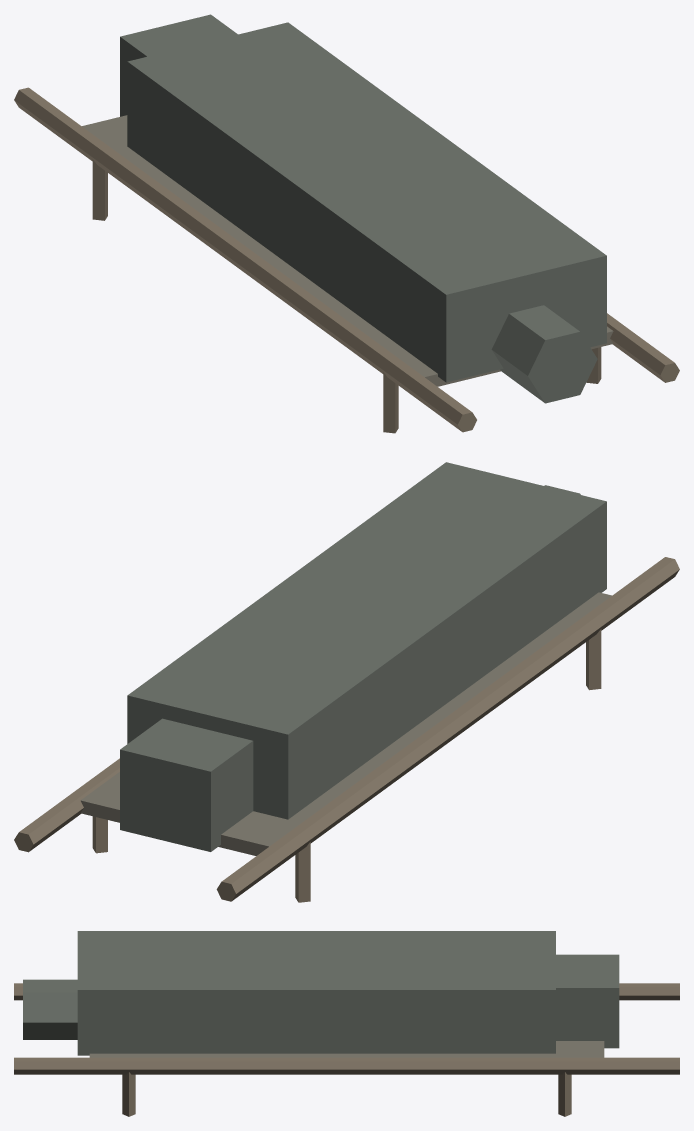
File: stretcher_occupied.glb
3 renders of one model, top to bottom at view 1: azimuth 30°, elevation 25°; view 2: azimuth 150°, elevation 25°; view 3: azimuth 270°, elevation 25°, orthographic. The views are drawn at different scales.
Parts seen in each view (by area): view 1: stretcher_occupied; view 2: stretcher_occupied; view 3: stretcher_occupied.
Part boxes in pixels (box(x1,y1,x2,y2)): stretcher_occupied: box(14, 14, 679, 433); stretcher_occupied: box(14, 462, 679, 902); stretcher_occupied: box(14, 931, 679, 1116).
Bounding box in the file's own units: 0.636 × 0.425 × 2.2.
